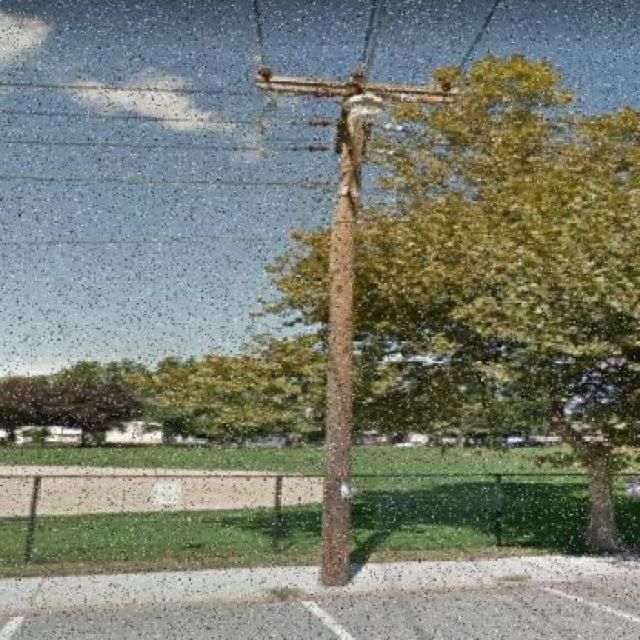pole: (166, 28, 466, 600)
